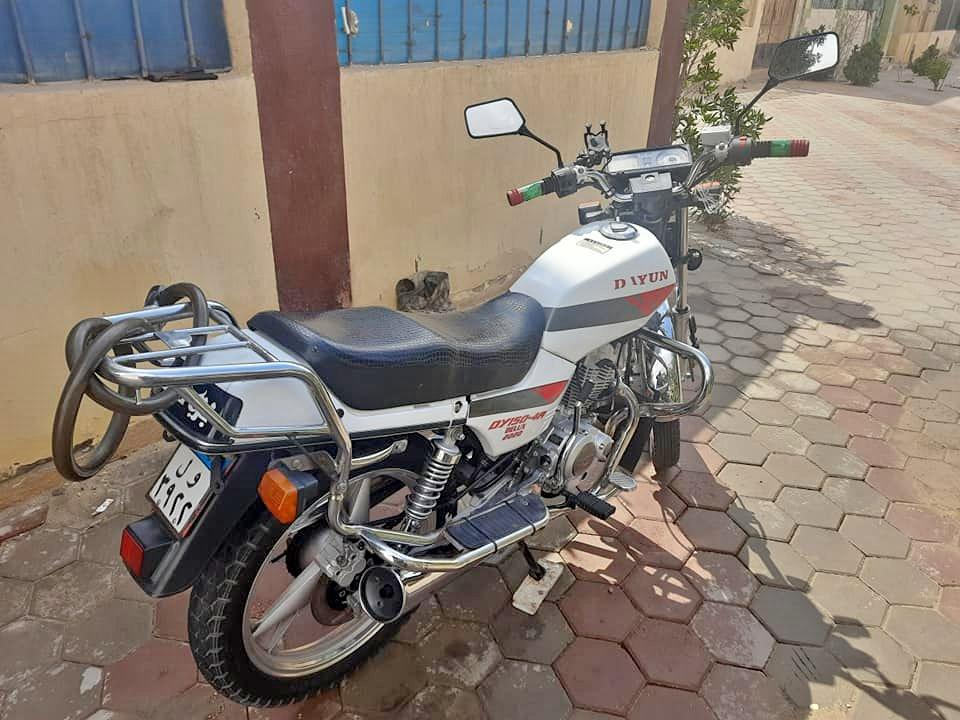License Plate: (144, 439, 225, 538)
